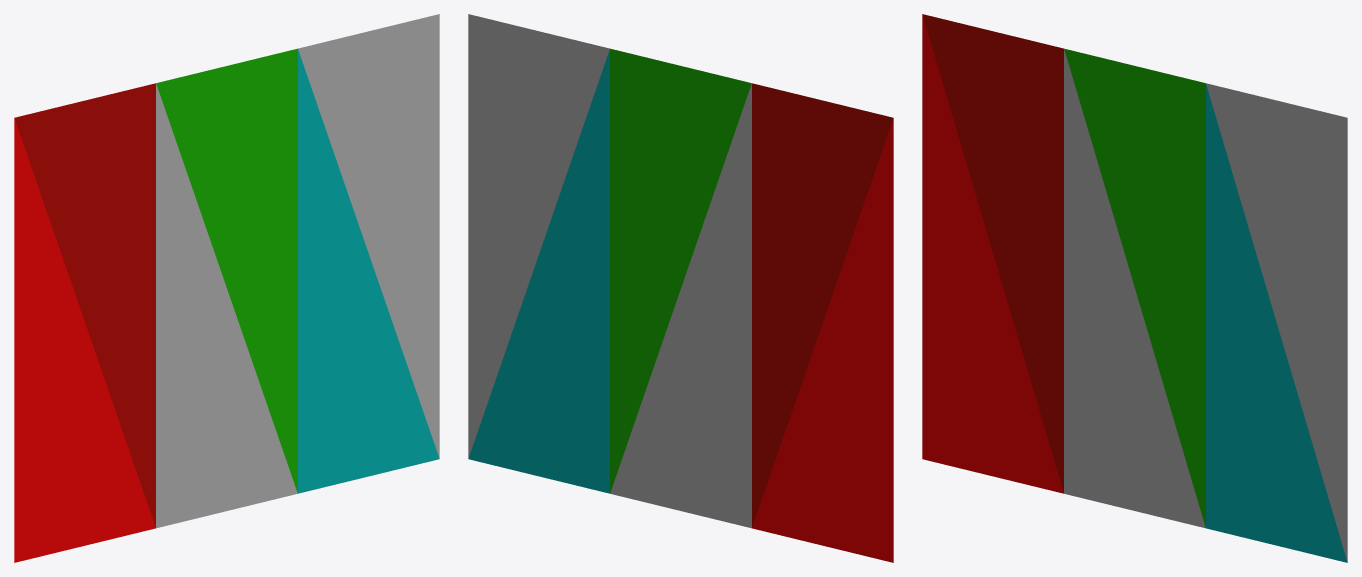
The model's file is _reference_cube_with_6_materials.dae.
3 views of the same model, side by side, from view 1: azimuth 30°, elevation 25°; view 2: azimuth 150°, elevation 25°; view 3: azimuth 330°, elevation 25° (orthographic).
Visible parts, largest first — view 1: cube_node, cube6_node, cube3_node, cube4_node, cube2_node, cube5_node; view 2: cube_node, cube6_node, cube3_node, cube4_node, cube2_node, cube5_node; view 3: cube_node, cube6_node, cube3_node, cube4_node, cube2_node, cube5_node.
Boxes of the visible parts, x1,y1,x2,y2 form: cube_node: [14, 118, 155, 562]; cube6_node: [298, 14, 439, 458]; cube3_node: [156, 83, 297, 528]; cube4_node: [156, 48, 297, 493]; cube2_node: [14, 83, 155, 527]; cube5_node: [298, 49, 439, 493]; cube_node: [752, 118, 893, 562]; cube6_node: [468, 14, 609, 458]; cube3_node: [610, 83, 751, 528]; cube4_node: [610, 48, 751, 493]; cube2_node: [752, 83, 893, 527]; cube5_node: [468, 49, 609, 493]; cube_node: [922, 15, 1063, 493]; cube6_node: [1206, 83, 1347, 561]; cube3_node: [1064, 49, 1205, 528]; cube4_node: [1064, 48, 1205, 527]; cube2_node: [922, 14, 1063, 492]; cube5_node: [1206, 84, 1347, 562].
Size of the model in its own units: 120 by 120 by 0.
